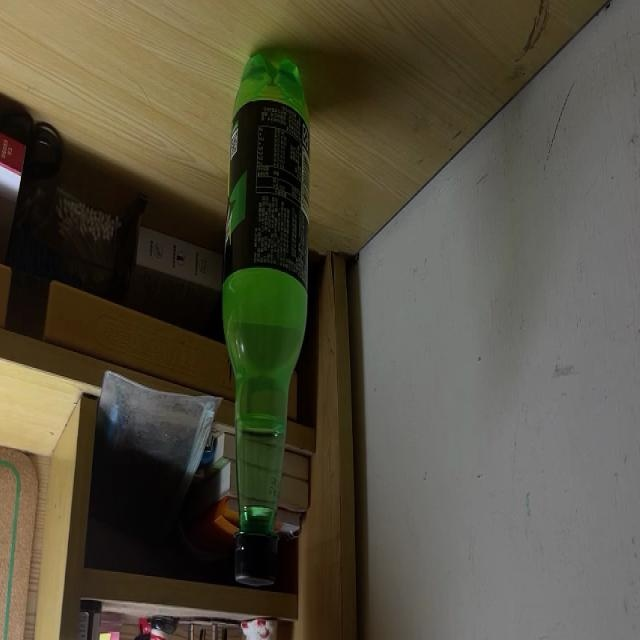Mountain-Dew: (223, 47, 309, 588)
